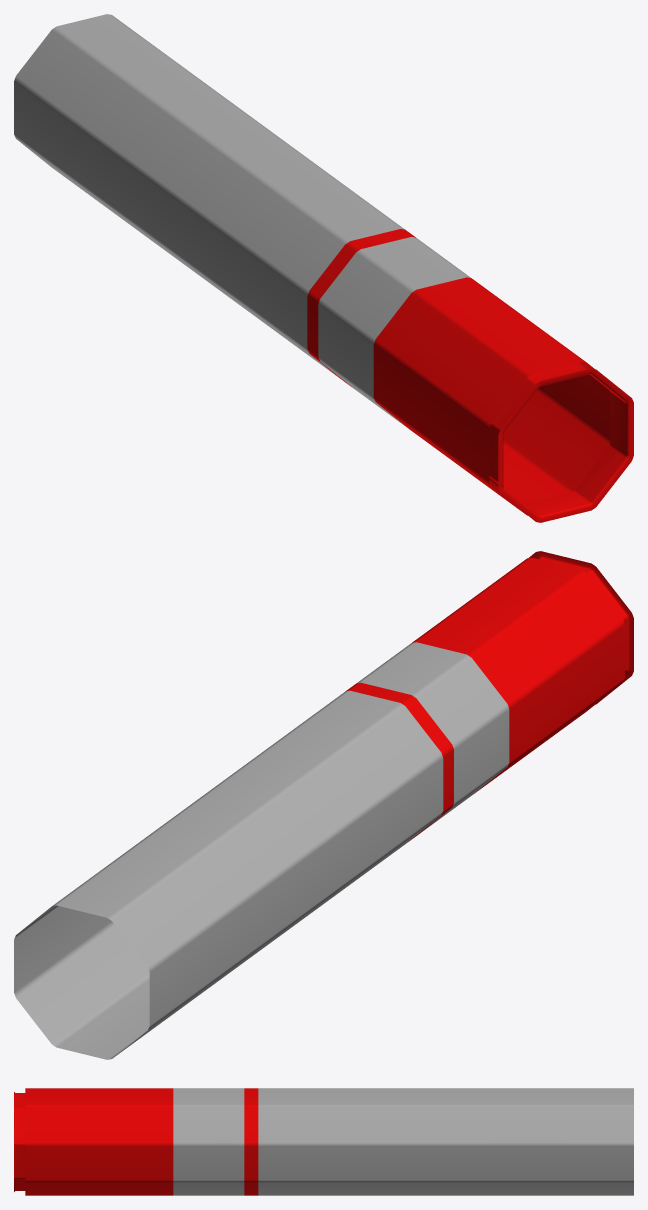
3 views of the same model, one above another, from view 1: azimuth 30°, elevation 25°; view 2: azimuth 150°, elevation 25°; view 3: azimuth 270°, elevation 25° (orthographic). The views are drawn at different scales.
Parts seen in each view (by area): view 1: tube_01, transition_01; view 2: tube_01, transition_01; view 3: tube_01, transition_01.
Part boxes in pixels (x1=…): tube_01: x1=14, y1=14, x2=610, y2=515; transition_01: x1=489, y1=362, x2=633, y2=522; tube_01: x1=14, y1=557, x2=624, y2=1059; transition_01: x1=529, y1=551, x2=633, y2=704; tube_01: x1=25, y1=1088, x2=633, y2=1195; transition_01: x1=14, y1=1092, x2=25, y2=1191.
Bounding box in the file's own units: 1649 × 1649 × 10187.
